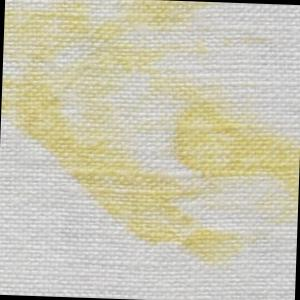Oil Stain: (1, 1, 300, 270)
